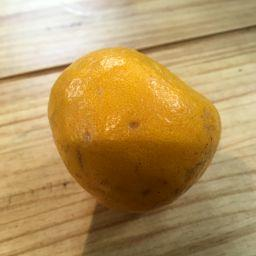Ripe: (48, 49, 220, 212)
